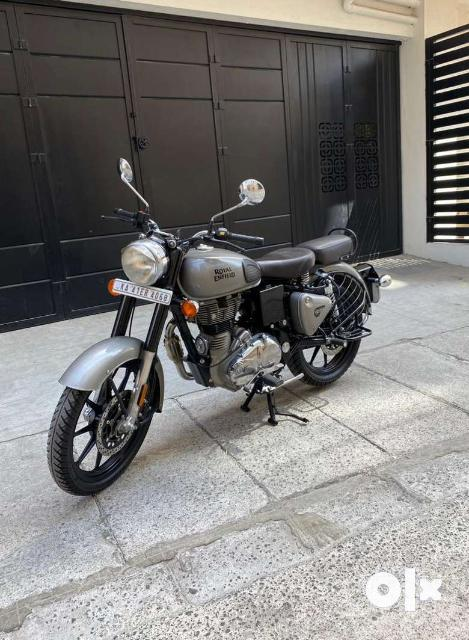Indian_Number_Plate: (114, 280, 171, 304)
